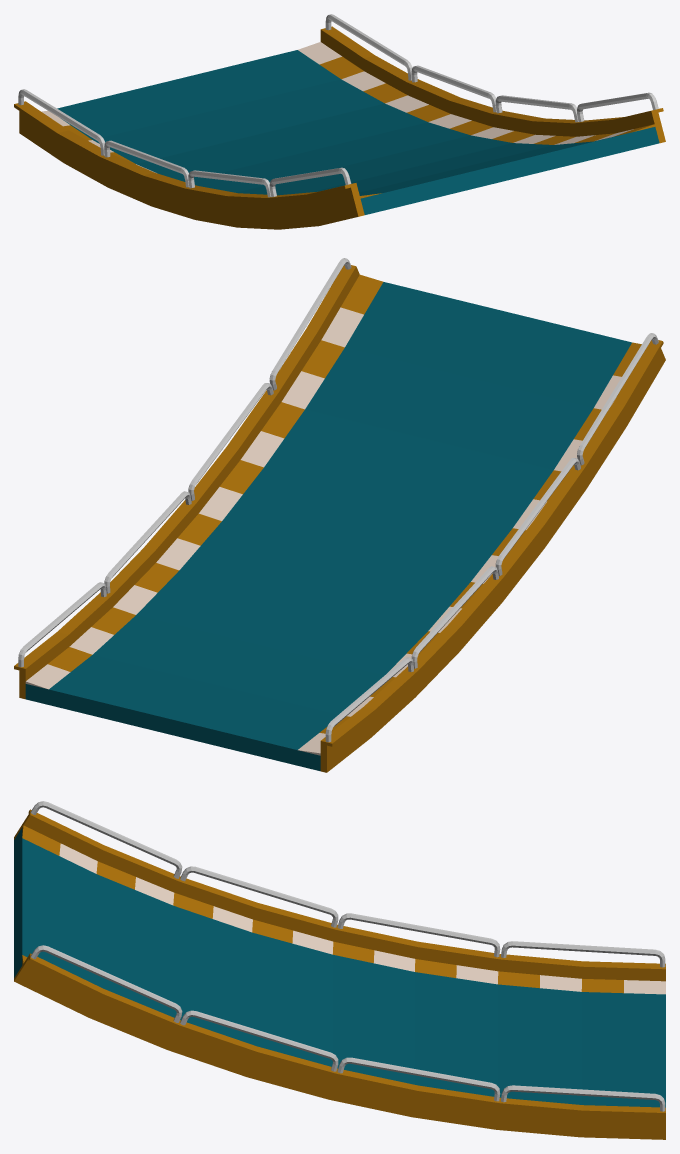
The model's file is ascent-30_m.FBX.
3 views of the same model, one above another, from view 1: azimuth 30°, elevation 25°; view 2: azimuth 150°, elevation 25°; view 3: azimuth 270°, elevation 25° (orthographic). The views are drawn at different scales.
Visible parts, largest first — view 1: ascent-30_m, wall_r, wall_l, curbs_l, curbs_r; view 2: ascent-30_m, wall_r, wall_l, curbs_l, curbs_r; view 3: ascent-30_m, wall_l, wall_r, curbs_r.
Boxes of the visible parts, x1=… form: ascent-30_m: x1=57, y1=50, x2=659, y2=214; wall_r: x1=14, y1=89, x2=364, y2=229; wall_l: x1=320, y1=14, x2=665, y2=143; curbs_l: x1=298, y1=42, x2=655, y2=144; curbs_r: x1=41, y1=110, x2=381, y2=198; ascent-30_m: x1=25, y1=282, x2=631, y2=771; wall_r: x1=320, y1=333, x2=665, y2=772; wall_l: x1=14, y1=258, x2=359, y2=699; curbs_l: x1=25, y1=274, x2=383, y2=689; curbs_r: x1=298, y1=342, x2=641, y2=755; ascent-30_m: x1=14, y1=827, x2=665, y2=1107; wall_l: x1=14, y1=945, x2=665, y2=1139; wall_r: x1=14, y1=801, x2=665, y2=981; curbs_r: x1=22, y1=825, x2=665, y2=994.
Size of what is drawn, in the model's own units: 207 by 125 by 382.
